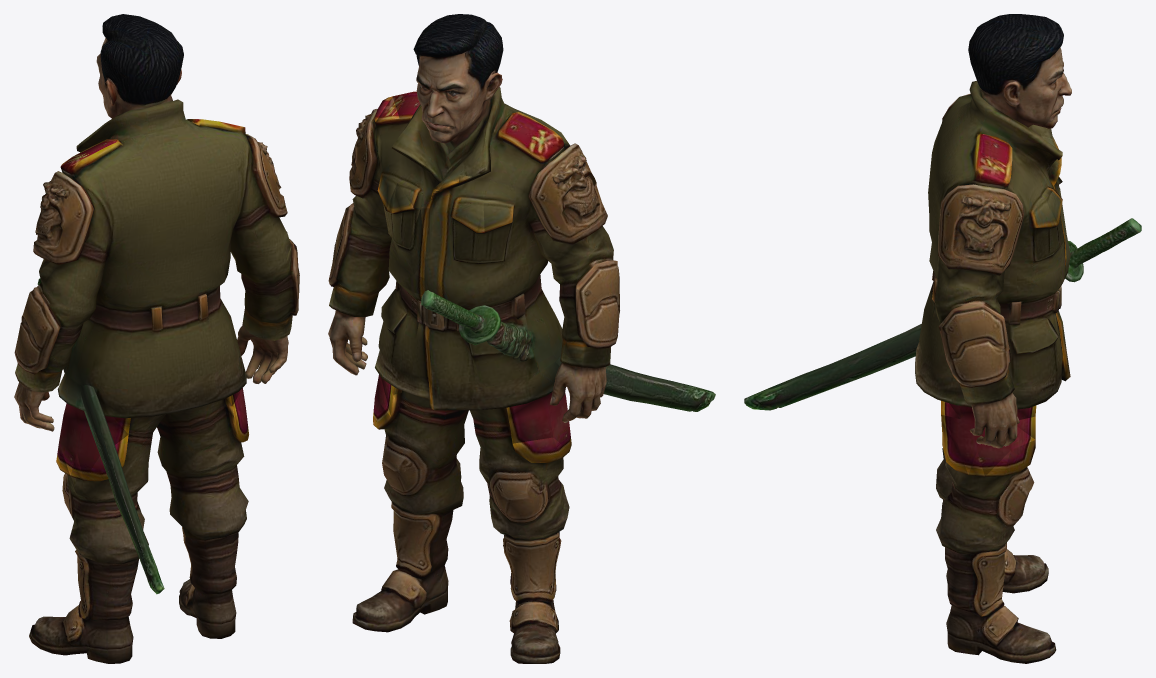
File: ruby_mortar.glb
3 renders of one model, left to right at view 1: azimuth 30°, elevation 25°; view 2: azimuth 150°, elevation 25°; view 3: azimuth 270°, elevation 25°, orthographic. The views are drawn at different scales.
Visible parts, largest first — view 1: Body, Trim; view 2: Body, Trim; view 3: Body, Trim.
Boxes of the visible parts, x1,y1,x2,y2 form: Body: (14,14,299,663); Trim: (49,119,248,618); Body: (328,14,715,663); Trim: (337,96,583,601); Body: (744,14,1141,663); Trim: (941,134,1070,616).
Bounding box in the file's own units: 0.856 × 1.8 × 1.08.
2 materials, 2 textured.
